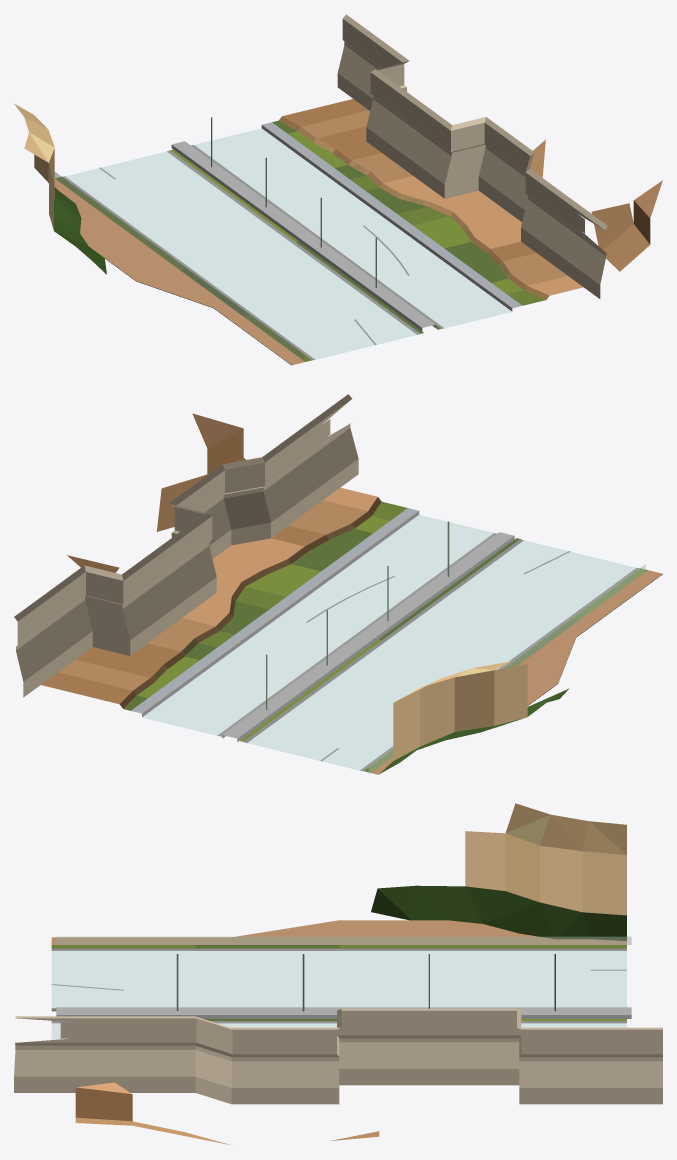
The picture shows the model from 3 angles, top to bottom: view 1: azimuth 30°, elevation 25°; view 2: azimuth 150°, elevation 25°; view 3: azimuth 270°, elevation 25°; orthographic projection. The views are drawn at different scales.
Parts seen in each view (by area): view 1: O2B591; view 2: O2B591; view 3: O2B591.
Boxes of the visible parts, bbox=[...] form: O2B591: bbox=[14, 14, 662, 365]; O2B591: bbox=[14, 394, 662, 774]; O2B591: bbox=[14, 803, 662, 1144].
Size of the model in its own units: 137 by 24 by 144.
